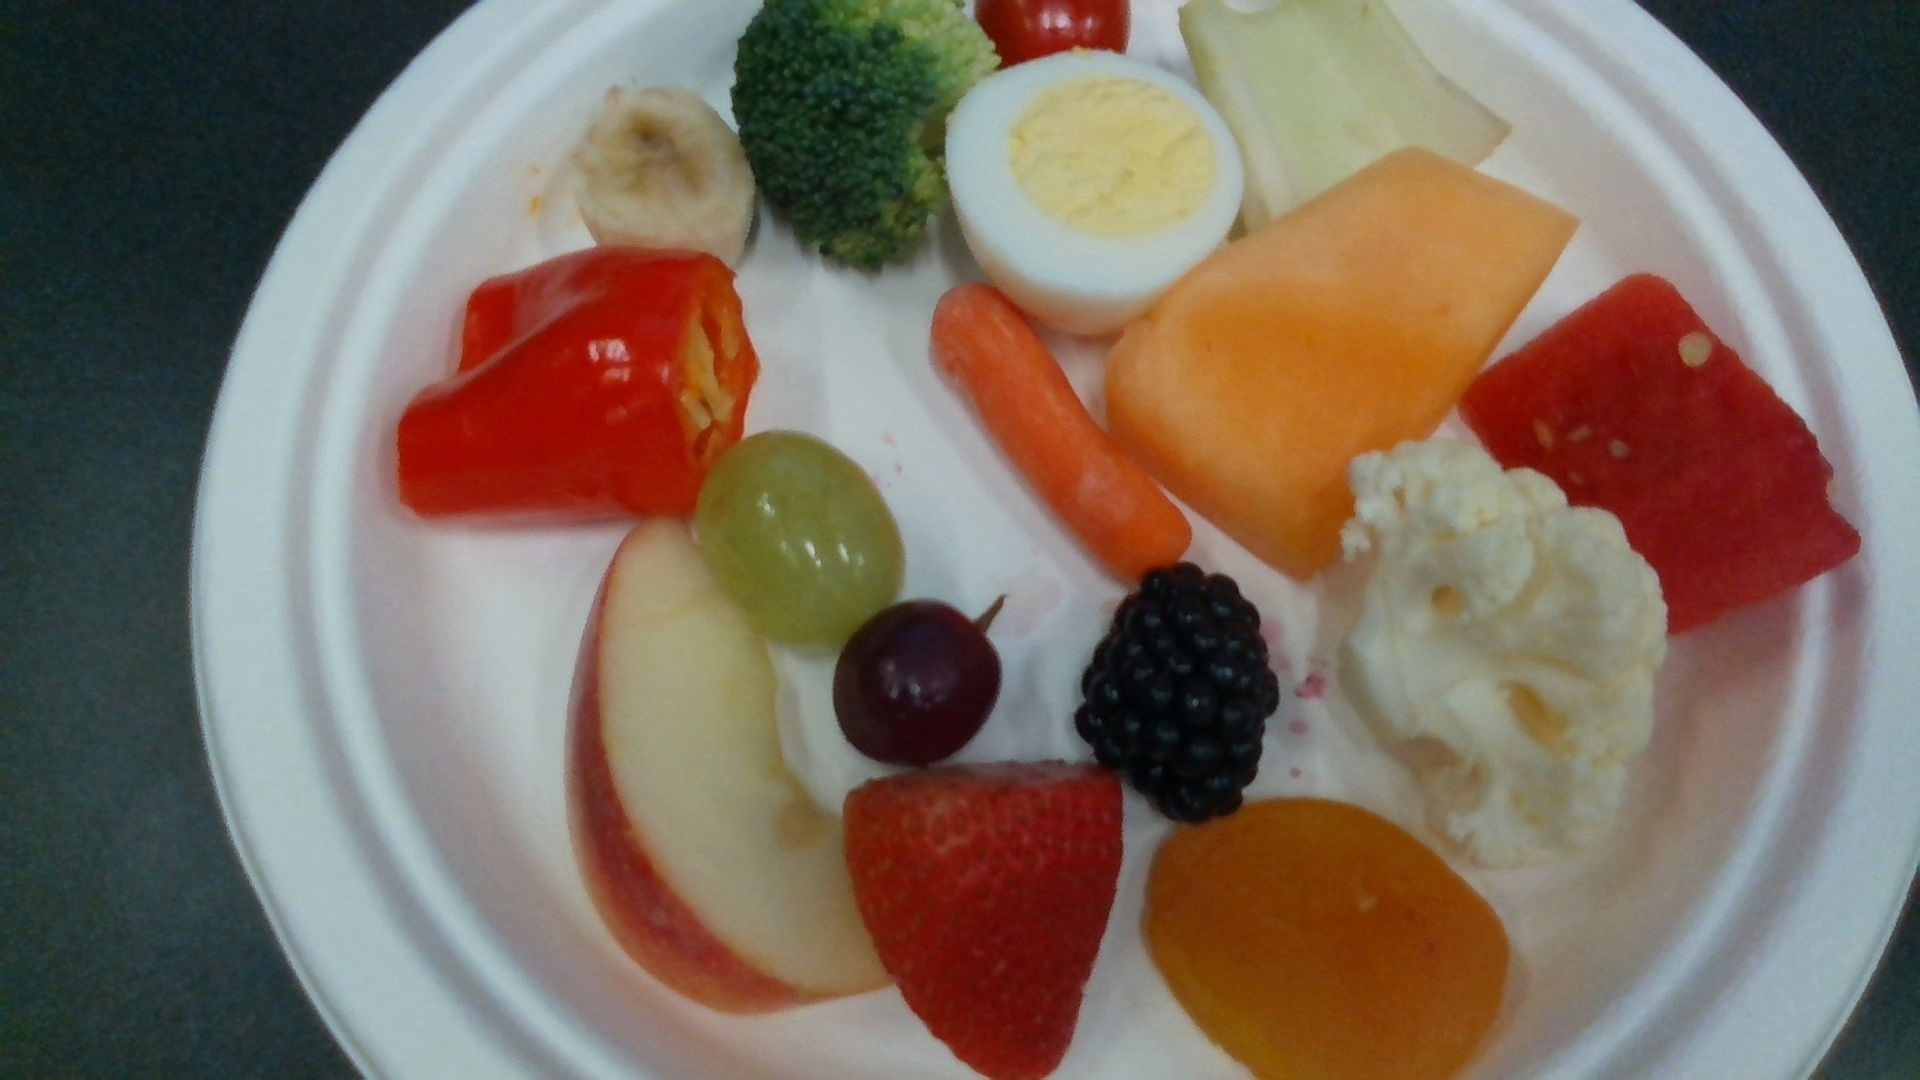apple: (564, 518, 895, 1015)
apricot: (1145, 800, 1507, 1080)
banana: (579, 84, 756, 255)
bell_pepper: (402, 247, 756, 516)
blackberry: (1080, 566, 1279, 823)
broccoli: (735, 1, 1004, 265)
cantalope: (1106, 148, 1575, 578)
carrot: (932, 286, 1192, 583)
cauliflower: (1337, 448, 1665, 868)
celery: (1182, 1, 1510, 233)
egg: (945, 50, 1240, 334)
grape_green: (700, 435, 899, 653)
grape_purple: (833, 601, 1002, 766)
melon: (1458, 276, 1859, 633)
strawberry: (845, 767, 1120, 1080)
